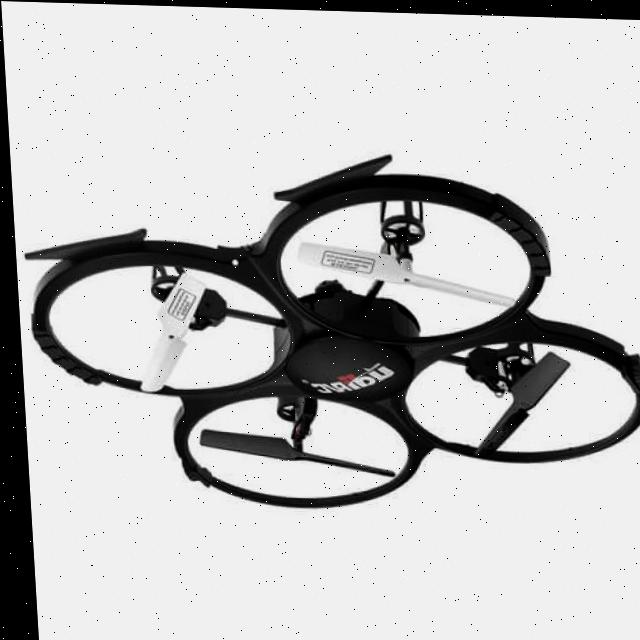drone: (17, 147, 640, 552)
